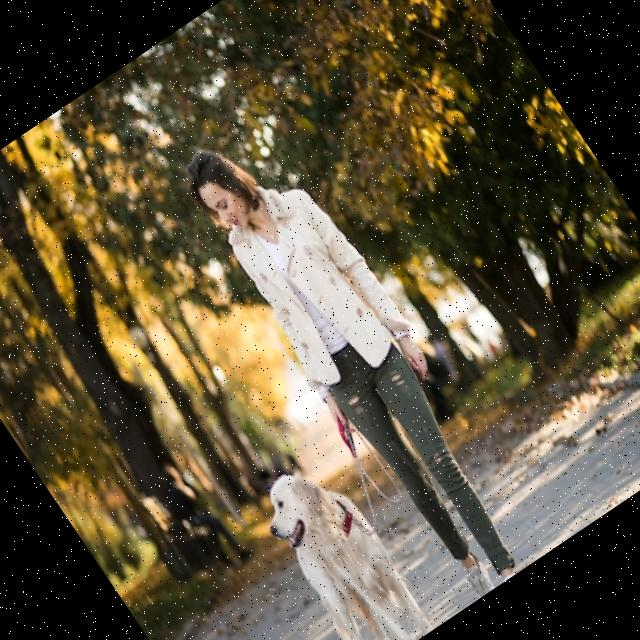Dog: (246, 450, 438, 640)
Person: (167, 108, 558, 610)
